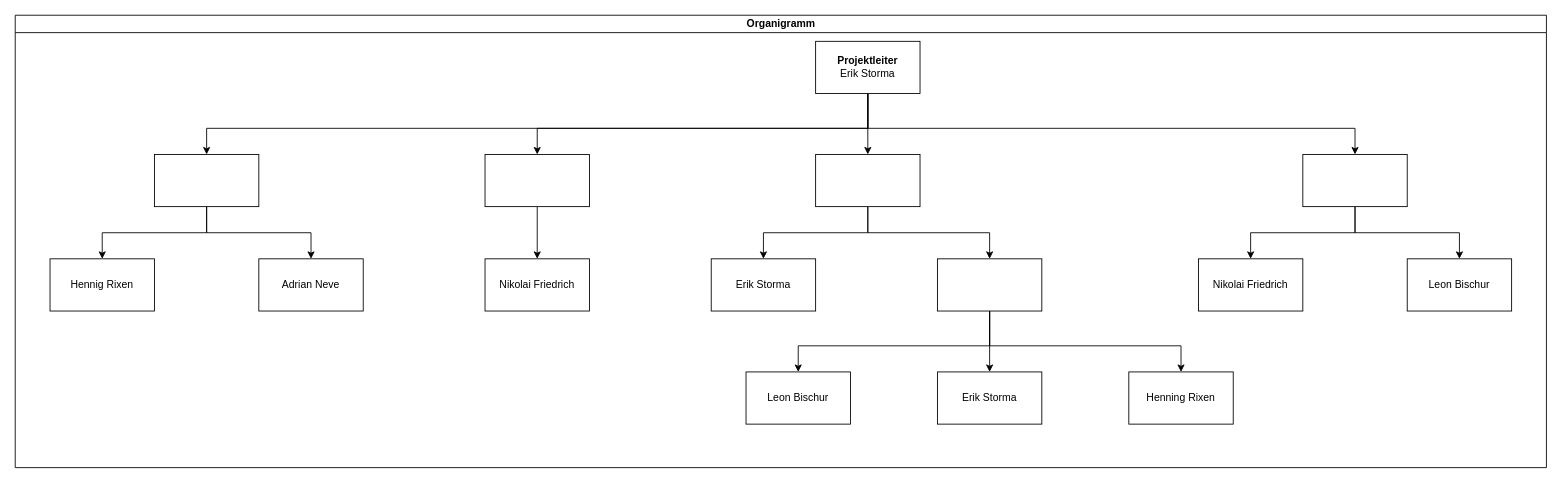
Image size: 1562x483. Some labels were removed from this diagram. The shapes that lost their labels are listed below. From the top down, each one's box as (x1, y1, x2, y2) in pixels, then its label:
(154, 154, 259, 207): Entwicklerteam
(484, 154, 589, 207): Protokoll
(815, 154, 920, 207): Planung
(1302, 154, 1407, 207): Themensammlung
(937, 258, 1042, 311): Vertrieb
